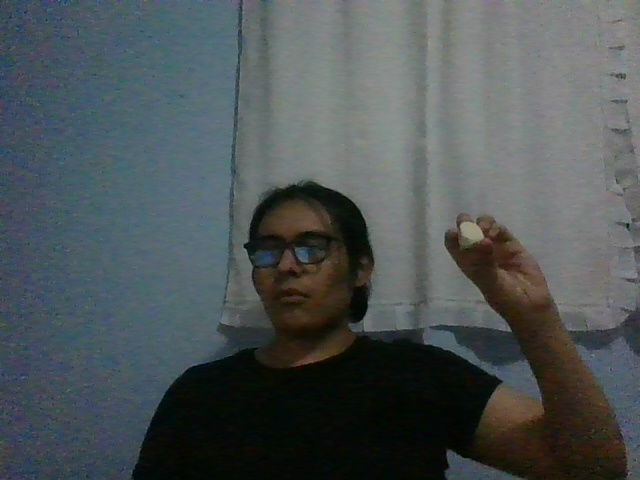goma: (457, 222, 484, 248)
